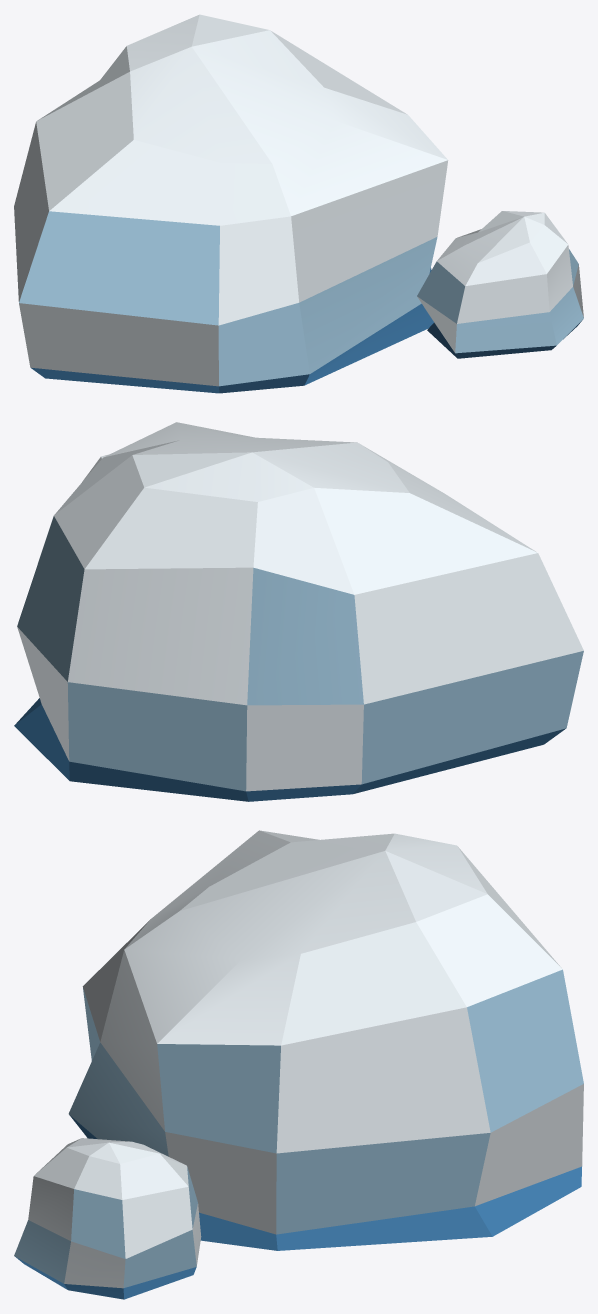
The model's file is iceberg.glb.
3 views of the same model, one above another, from view 1: azimuth 30°, elevation 25°; view 2: azimuth 150°, elevation 25°; view 3: azimuth 270°, elevation 25° (orthographic). The views are drawn at different scales.
Parts seen in each view (by area): view 1: body; view 2: body; view 3: body.
Part boxes in pixels (x1,y1,x2,y2): body: (14,14,583,393); body: (14,422,583,801); body: (14,830,583,1299).
Bounding box in the file's own units: 73.35 × 33.6 × 59.52.
